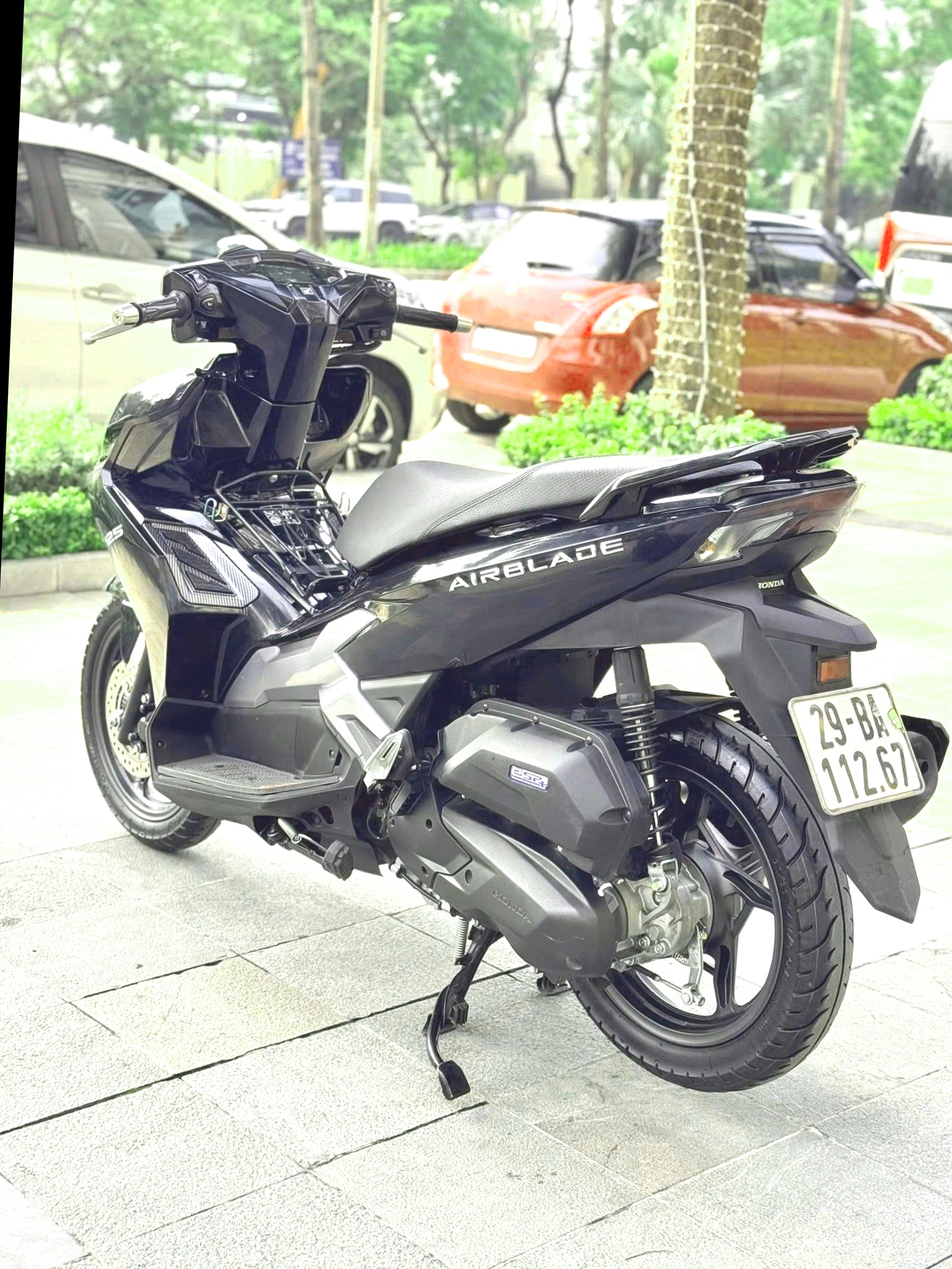Bien-so: (778, 653, 923, 802)
